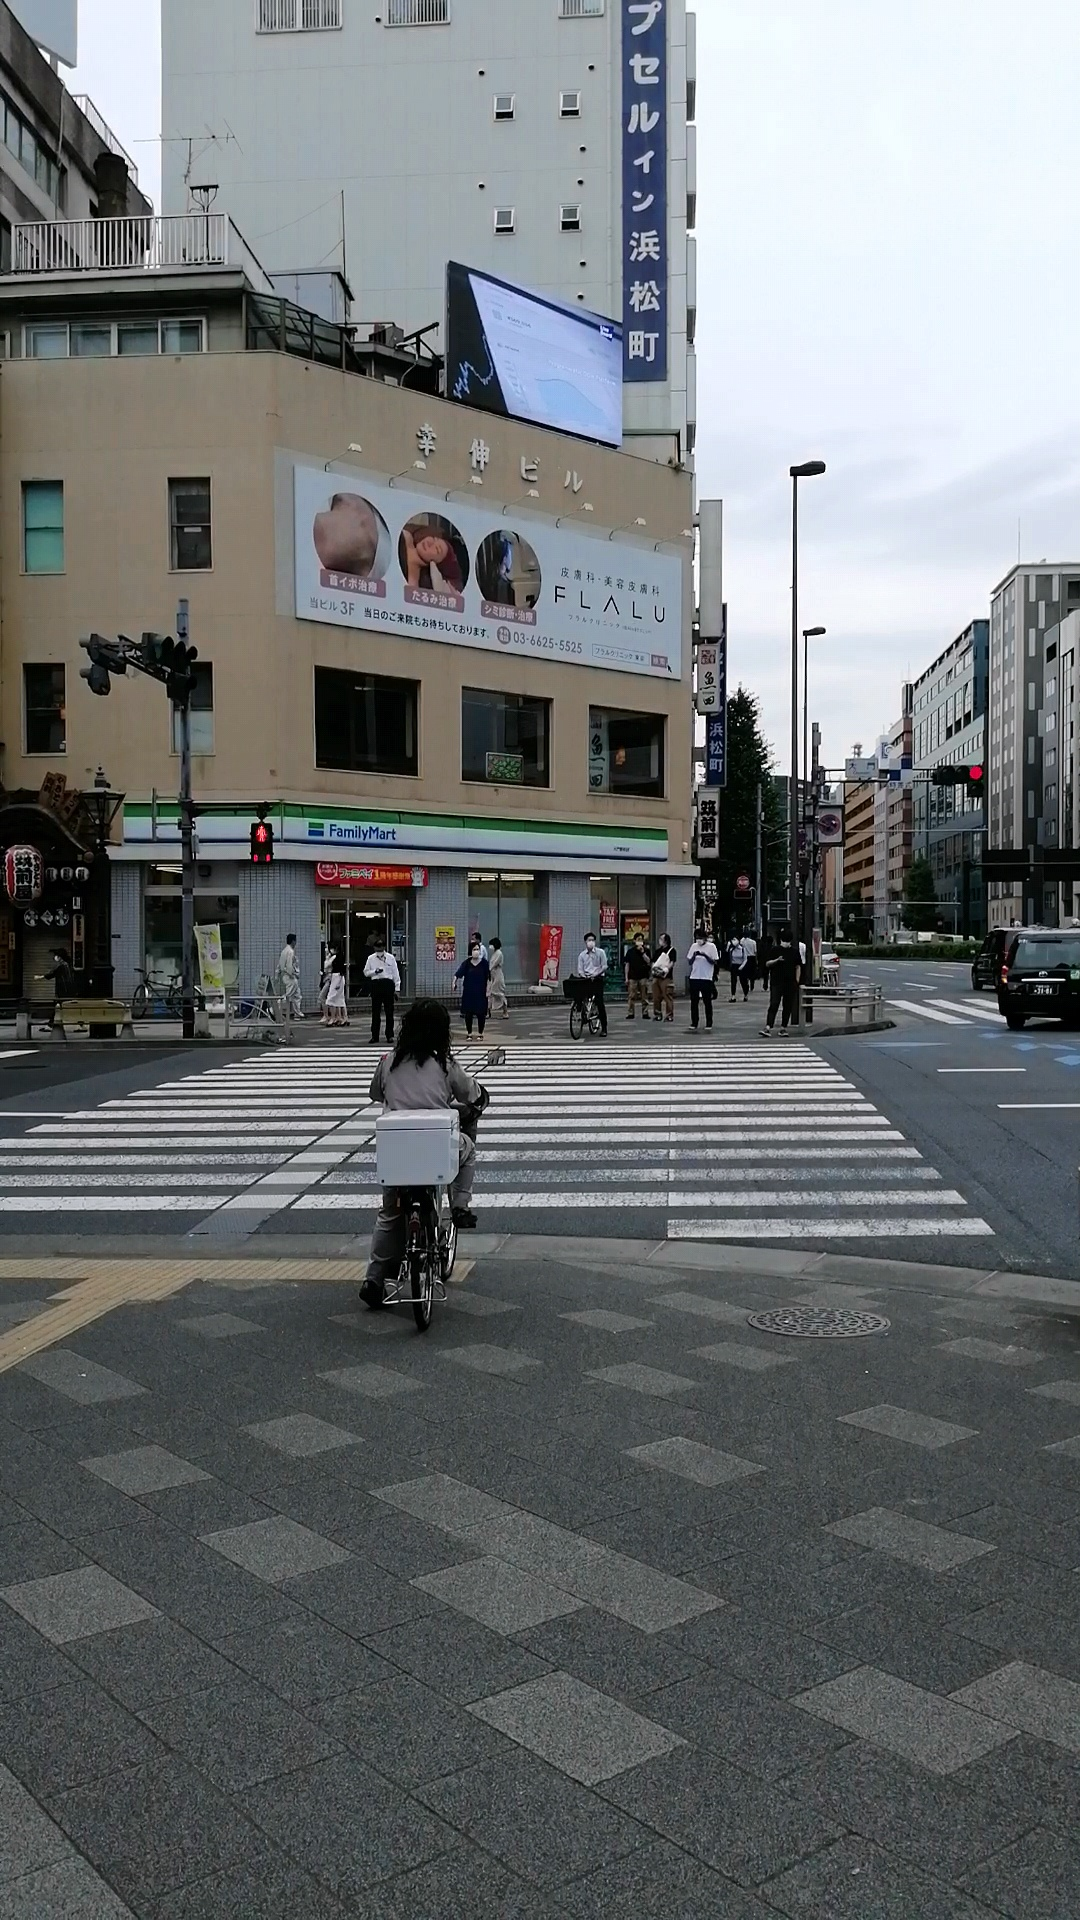red: (249, 820, 274, 866)
